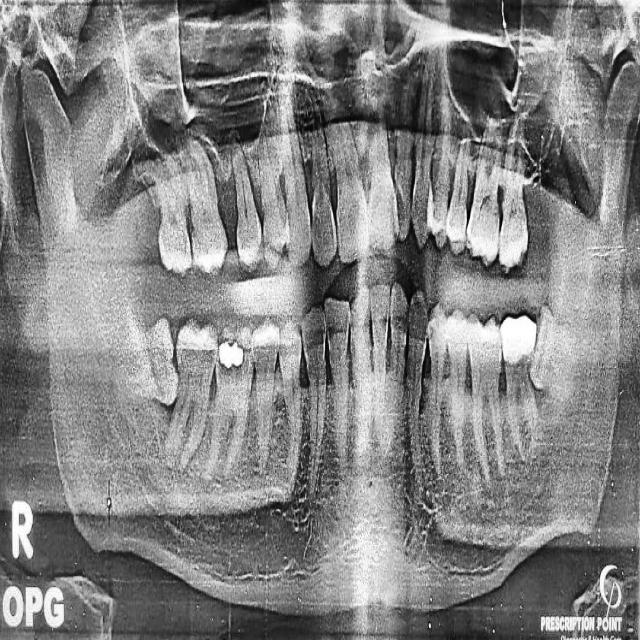karies: (215, 337, 249, 382)
